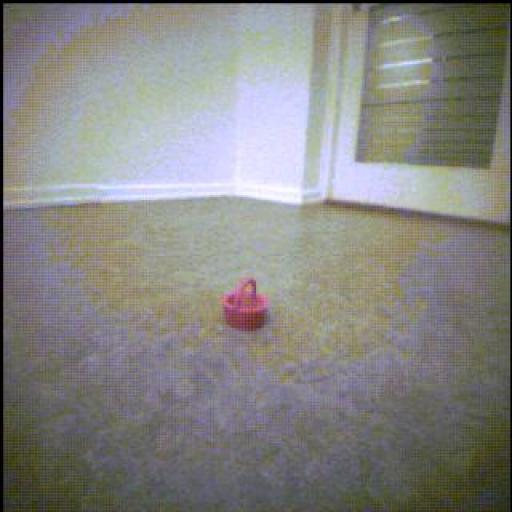Bucket: (223, 278, 270, 332)
